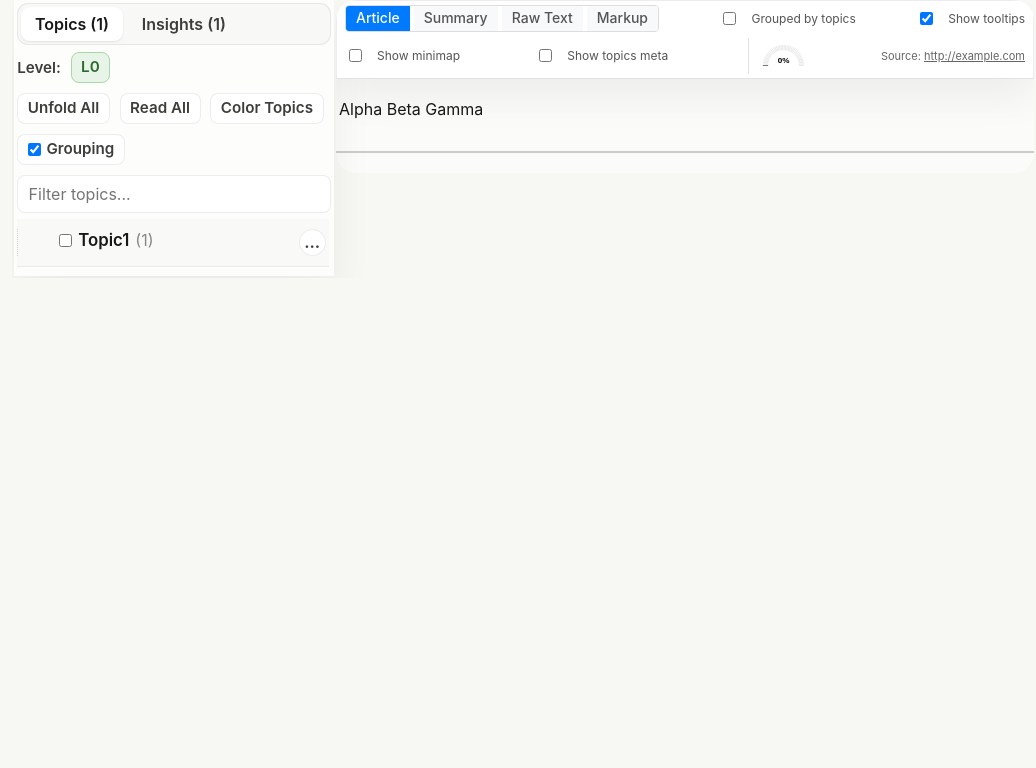
Test: TextPage raw text navigation › applies topic colors to minimap bars for selected topics
Expected: the text "Source:" is shown, x1=881 y1=49 x2=921 y2=63
Click the 6th checkbox at (66, 240), box x1=59 y1=234 x2=72 y2=247
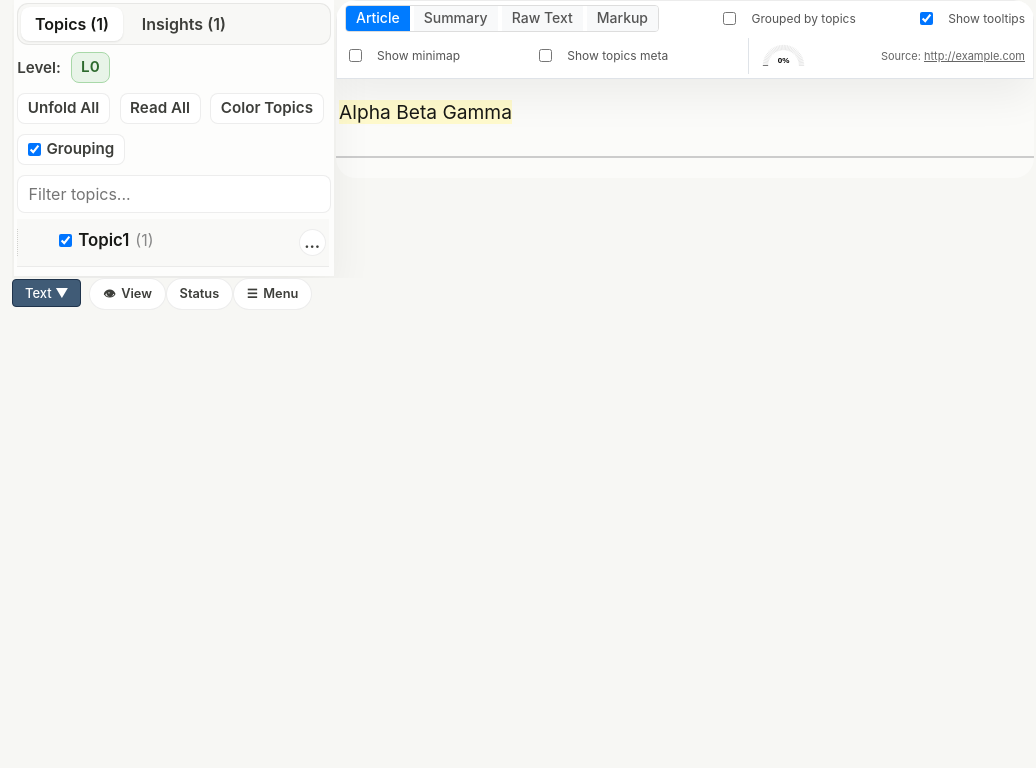
Click the checkbox labelled "Show minimap" at (356, 56), box x1=349 y1=49 x2=362 y2=62
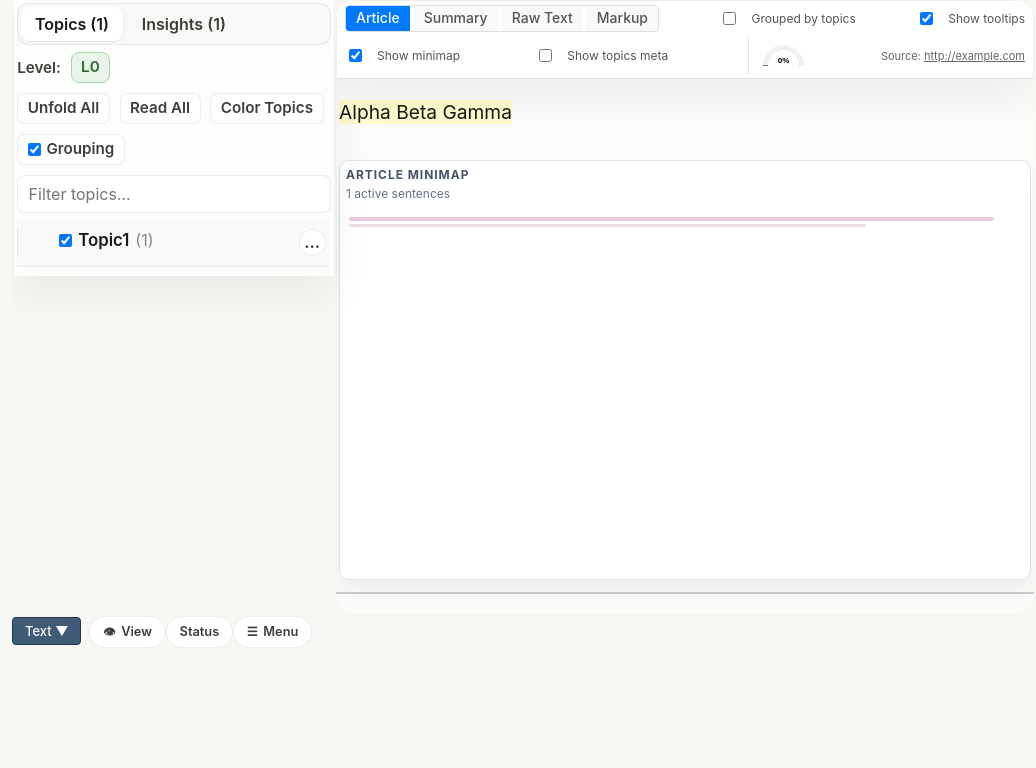
Expected: the element with class "grid-view-minimap-bar--active" is shown, x1=349 y1=216 x2=994 y2=221
